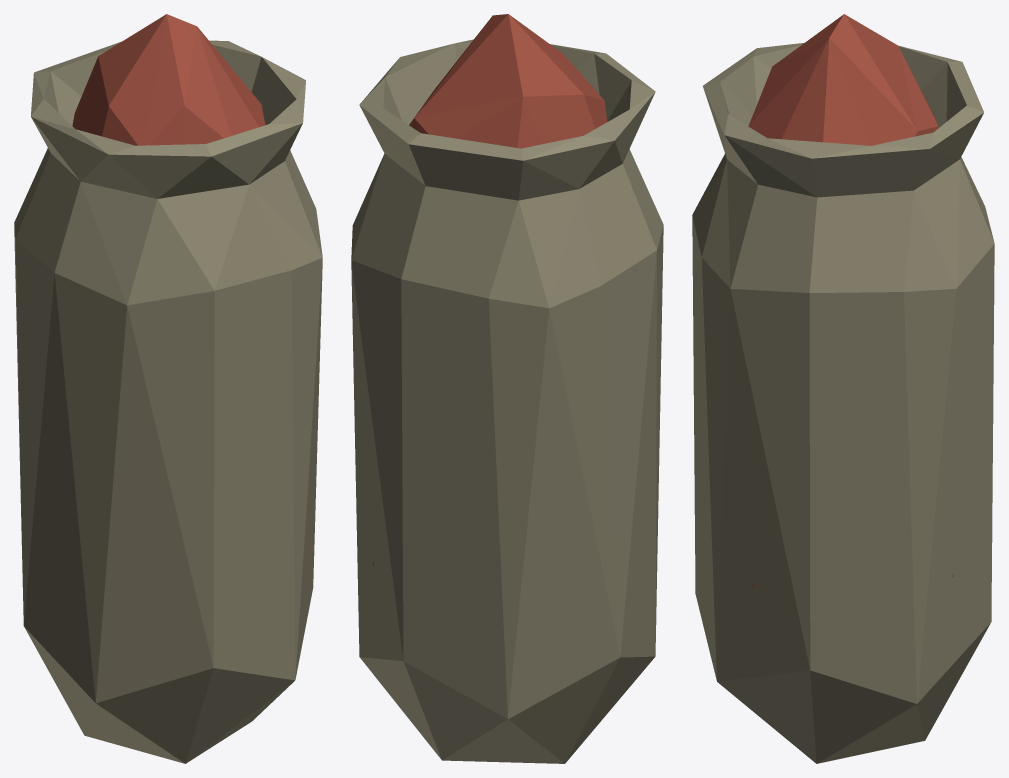
File: slim pot of saffron.glb
3 views of the same model, side by side, from view 1: azimuth 30°, elevation 25°; view 2: azimuth 150°, elevation 25°; view 3: azimuth 270°, elevation 25° (orthographic).
Parts seen in each view (by area): view 1: Cube, Cube.001; view 2: Cube, Cube.001; view 3: Cube, Cube.001.
Boxes of the visible parts, x1=… form: Cube: x1=14, y1=40, x2=322, y2=763; Cube.001: x1=72, y1=14, x2=308, y2=550; Cube: x1=351, y1=39, x2=663, y2=763; Cube.001: x1=372, y1=14, x2=607, y2=565; Cube: x1=692, y1=43, x2=994, y2=763; Cube.001: x1=748, y1=14, x2=953, y2=587.
Size of the model in its own units: 0.3496 by 0.9123 by 0.3496.
